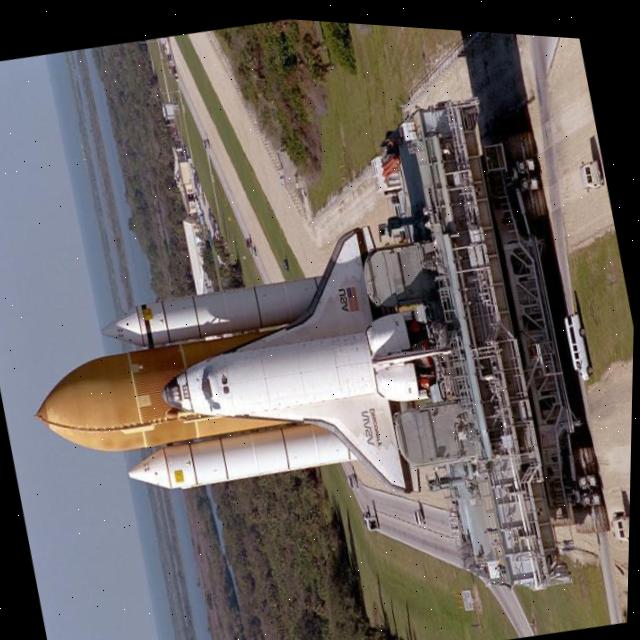missile: (9, 192, 458, 553)
